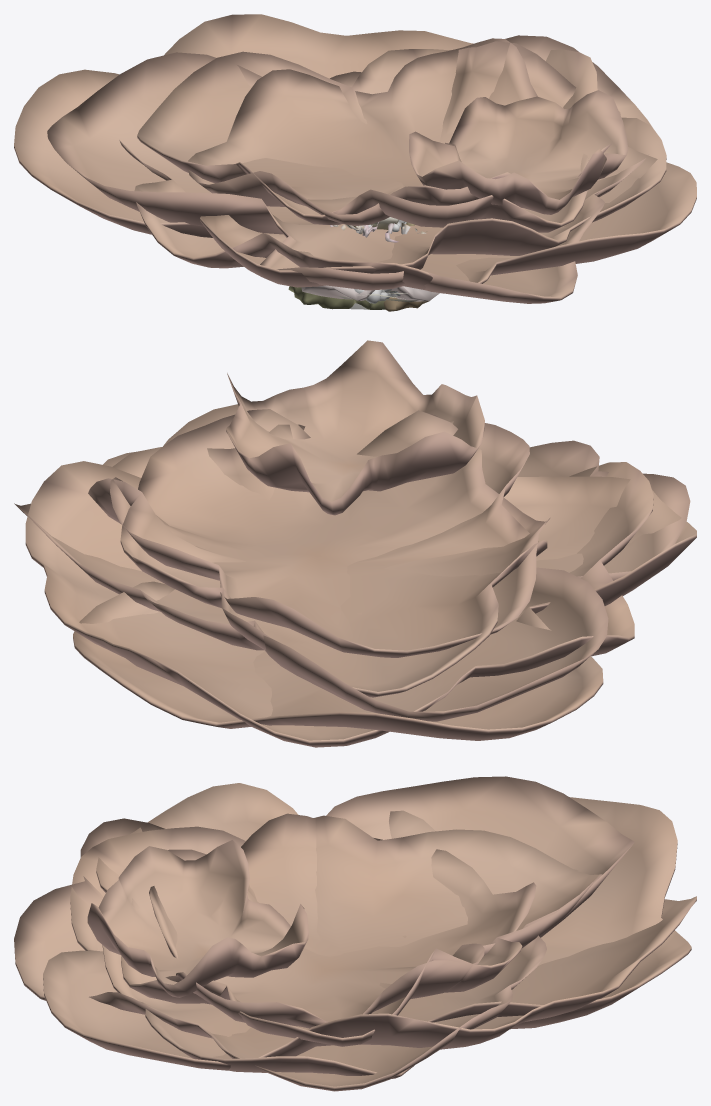
The model's file is corals.glb.
The picture shows the model from 3 angles, top to bottom: view 1: azimuth 30°, elevation 25°; view 2: azimuth 150°, elevation 25°; view 3: azimuth 270°, elevation 25°; orthographic projection. The views are drawn at different scales.
Parts seen in each view (by area): view 1: table_v2_lod0, table_v1_lod0, table_v0_lod0, leather_v0_lod0, mound_v1_lod0; view 2: table_v2_lod0, table_v1_lod0, table_v0_lod0; view 3: table_v2_lod0, table_v1_lod0, table_v0_lod0.
Boxes of the visible parts, x1,y1,x2,y2 form: table_v2_lod0: [47, 35, 651, 303]; table_v1_lod0: [119, 14, 696, 289]; table_v0_lod0: [14, 69, 666, 287]; leather_v0_lod0: [301, 285, 439, 301]; mound_v1_lod0: [288, 286, 385, 309]; table_v2_lod0: [14, 340, 690, 721]; table_v1_lod0: [25, 404, 653, 747]; table_v0_lod0: [73, 452, 696, 740]; table_v2_lod0: [14, 776, 634, 1091]; table_v1_lod0: [43, 810, 696, 1070]; table_v0_lod0: [96, 783, 691, 1078].
Size of what is drawn, in the model's own units: 3.31 by 1.15 by 3.42.
